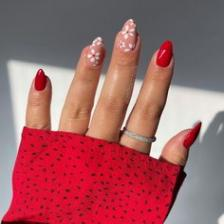red: (2, 128, 186, 224), (184, 122, 202, 149), (157, 40, 174, 67), (35, 69, 47, 91)
